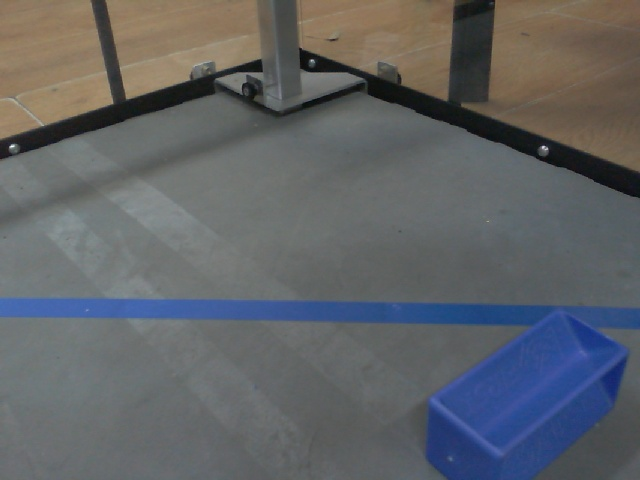BlueSample: (421, 306, 632, 480)
